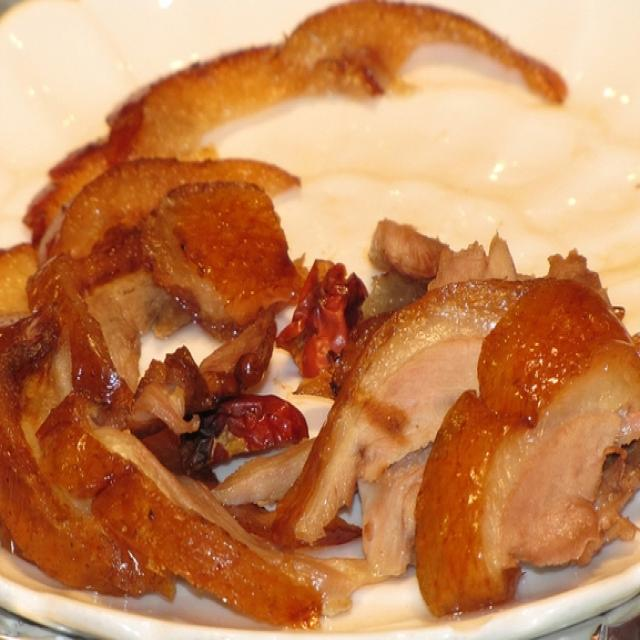烧串烤肉: (18, 21, 609, 625)
